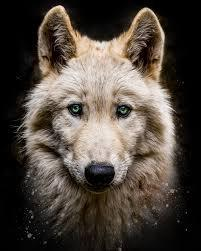Wolf: (17, 5, 174, 249)
